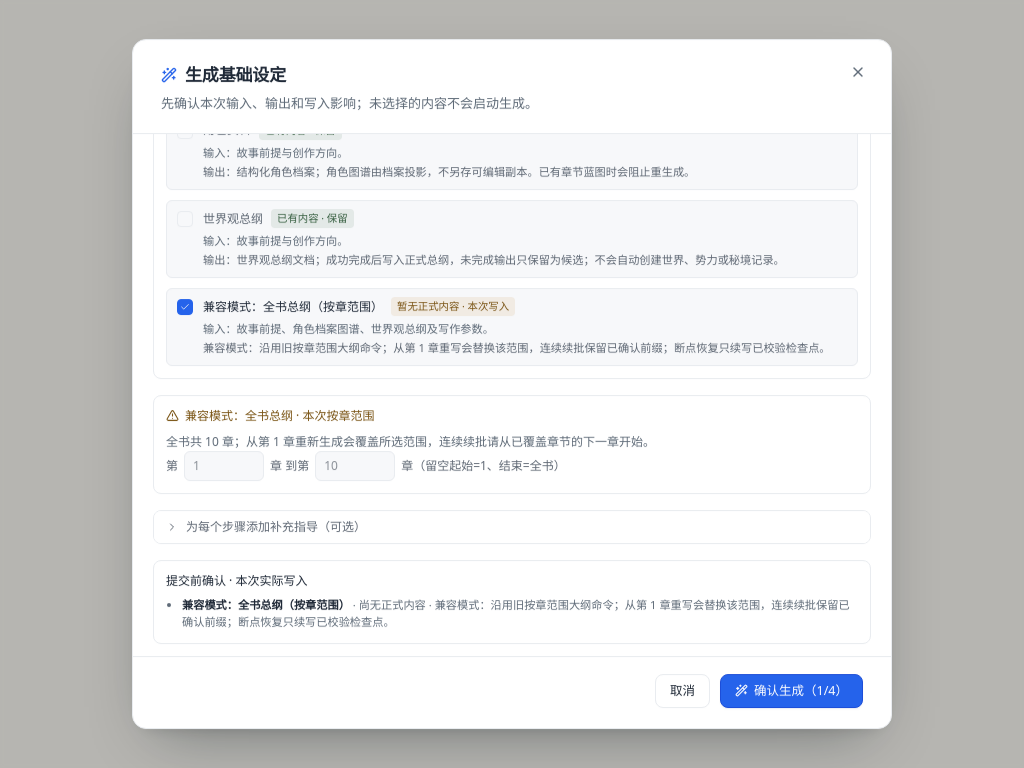
workflow launch dialogs › rejects non-empty invalid synopsis range value 0
The width and height of the screenshot is (1024, 768).
(page scrolled)
Type "0" into the number field named "本次生成范围的起始章".
click(224, 466); type("0")  # box [184,451,264,481]
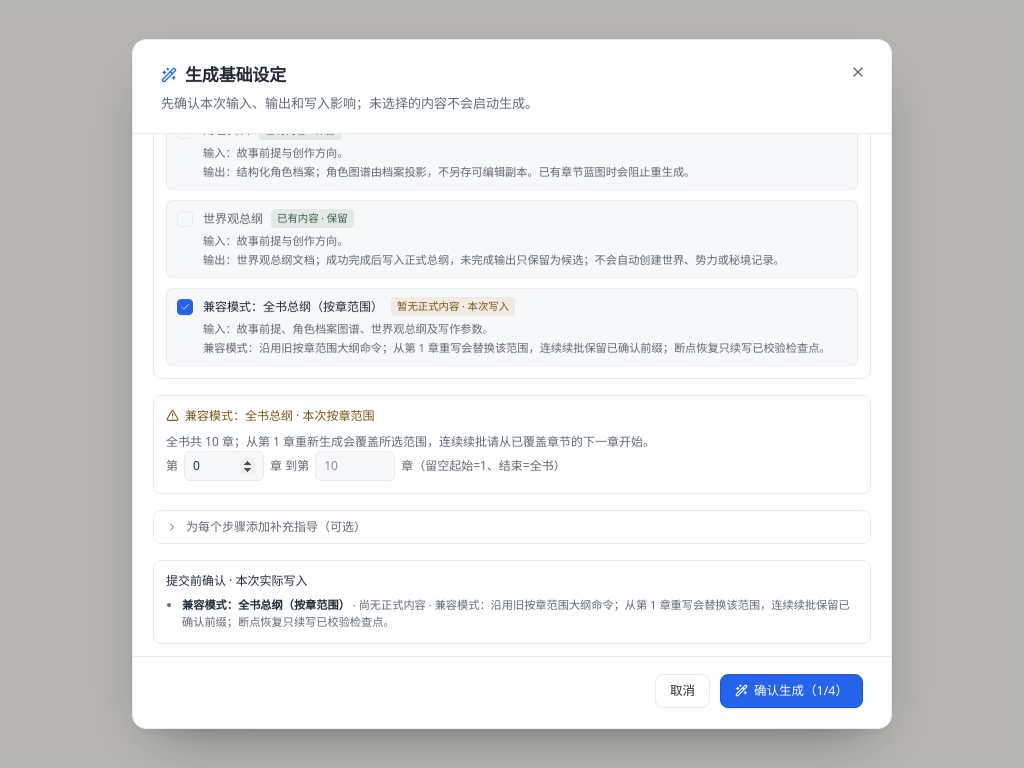
Click the button "确认生成（1/4）".
click(792, 691)  # box [720,674,863,708]
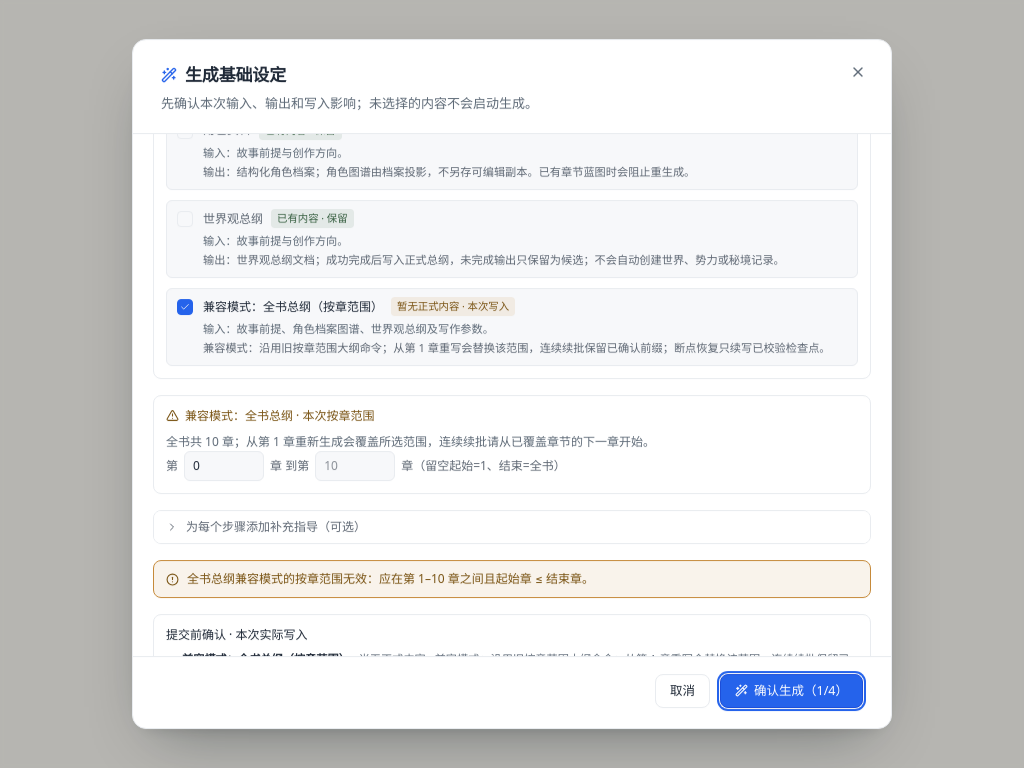
Check: the text "全书总纲兼容模式的按章范围无效：应在第 1–10 章之间且起始章 ≤ 结束章。" is shown, box [187,571,594,587]
